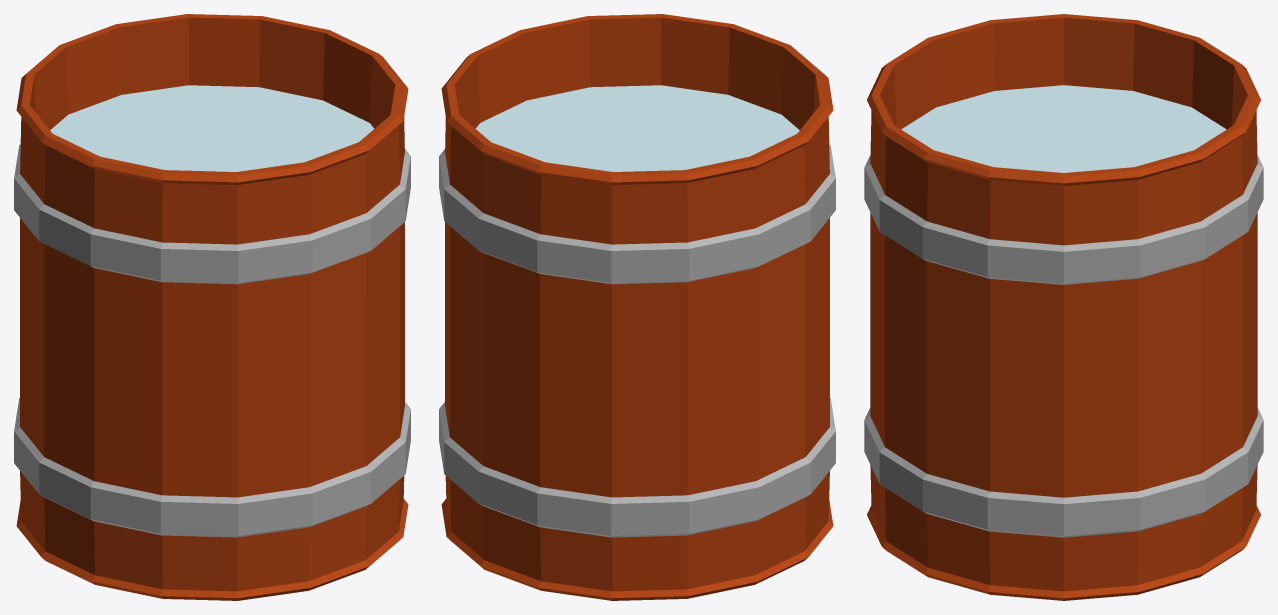
The model's file is SM_Barrel_2A.fbx.
3 views of the same model, side by side, from view 1: azimuth 30°, elevation 25°; view 2: azimuth 150°, elevation 25°; view 3: azimuth 270°, elevation 25° (orthographic).
Visible parts, largest first — view 1: SM_Barrel_2A_LOD0; view 2: SM_Barrel_2A_LOD0; view 3: SM_Barrel_2A_LOD0.
Part boxes in pixels (x1=…): SM_Barrel_2A_LOD0: x1=14, y1=14, x2=410, y2=600; SM_Barrel_2A_LOD0: x1=439, y1=14, x2=835, y2=600; SM_Barrel_2A_LOD0: x1=864, y1=14, x2=1263, y2=600.
Size of the model in its own units: 88.79 by 88.79 by 104.
1 material, 1 textured.
